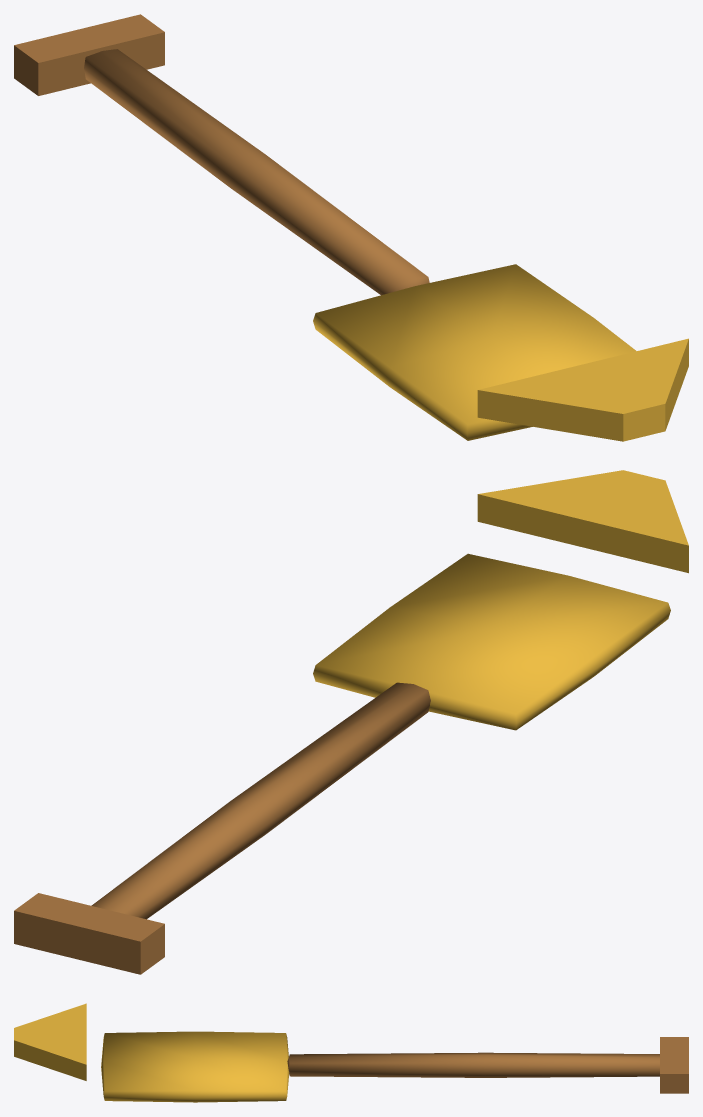
File: shovel.glb
3 renders of one model, top to bottom at view 1: azimuth 30°, elevation 25°; view 2: azimuth 150°, elevation 25°; view 3: azimuth 270°, elevation 25°, orthographic. The views are drawn at different scales.
Parts seen in each view (by area): view 1: root; view 2: root; view 3: root.
Boxes of the visible parts, bbox=[...] form: root: bbox=[14, 14, 688, 441]; root: bbox=[14, 470, 688, 974]; root: bbox=[14, 1003, 688, 1102].
Size of the model in its own units: 0.2 by 0.0625 by 0.93.
